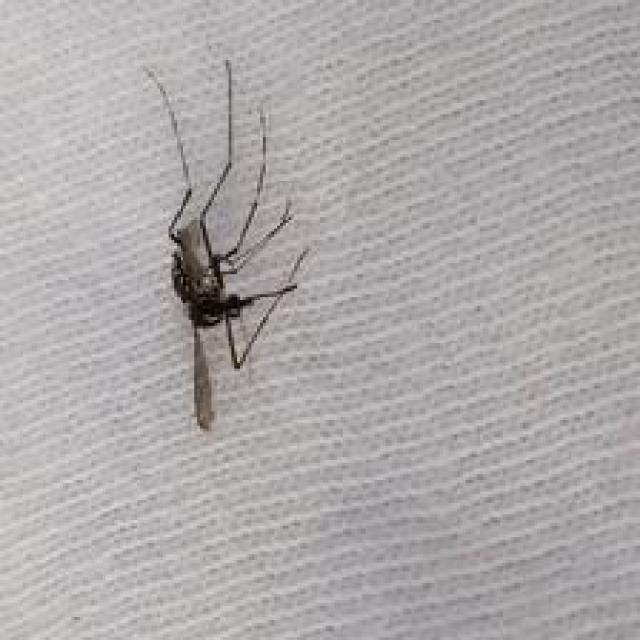Aedes albopictus: (140, 57, 311, 432)
